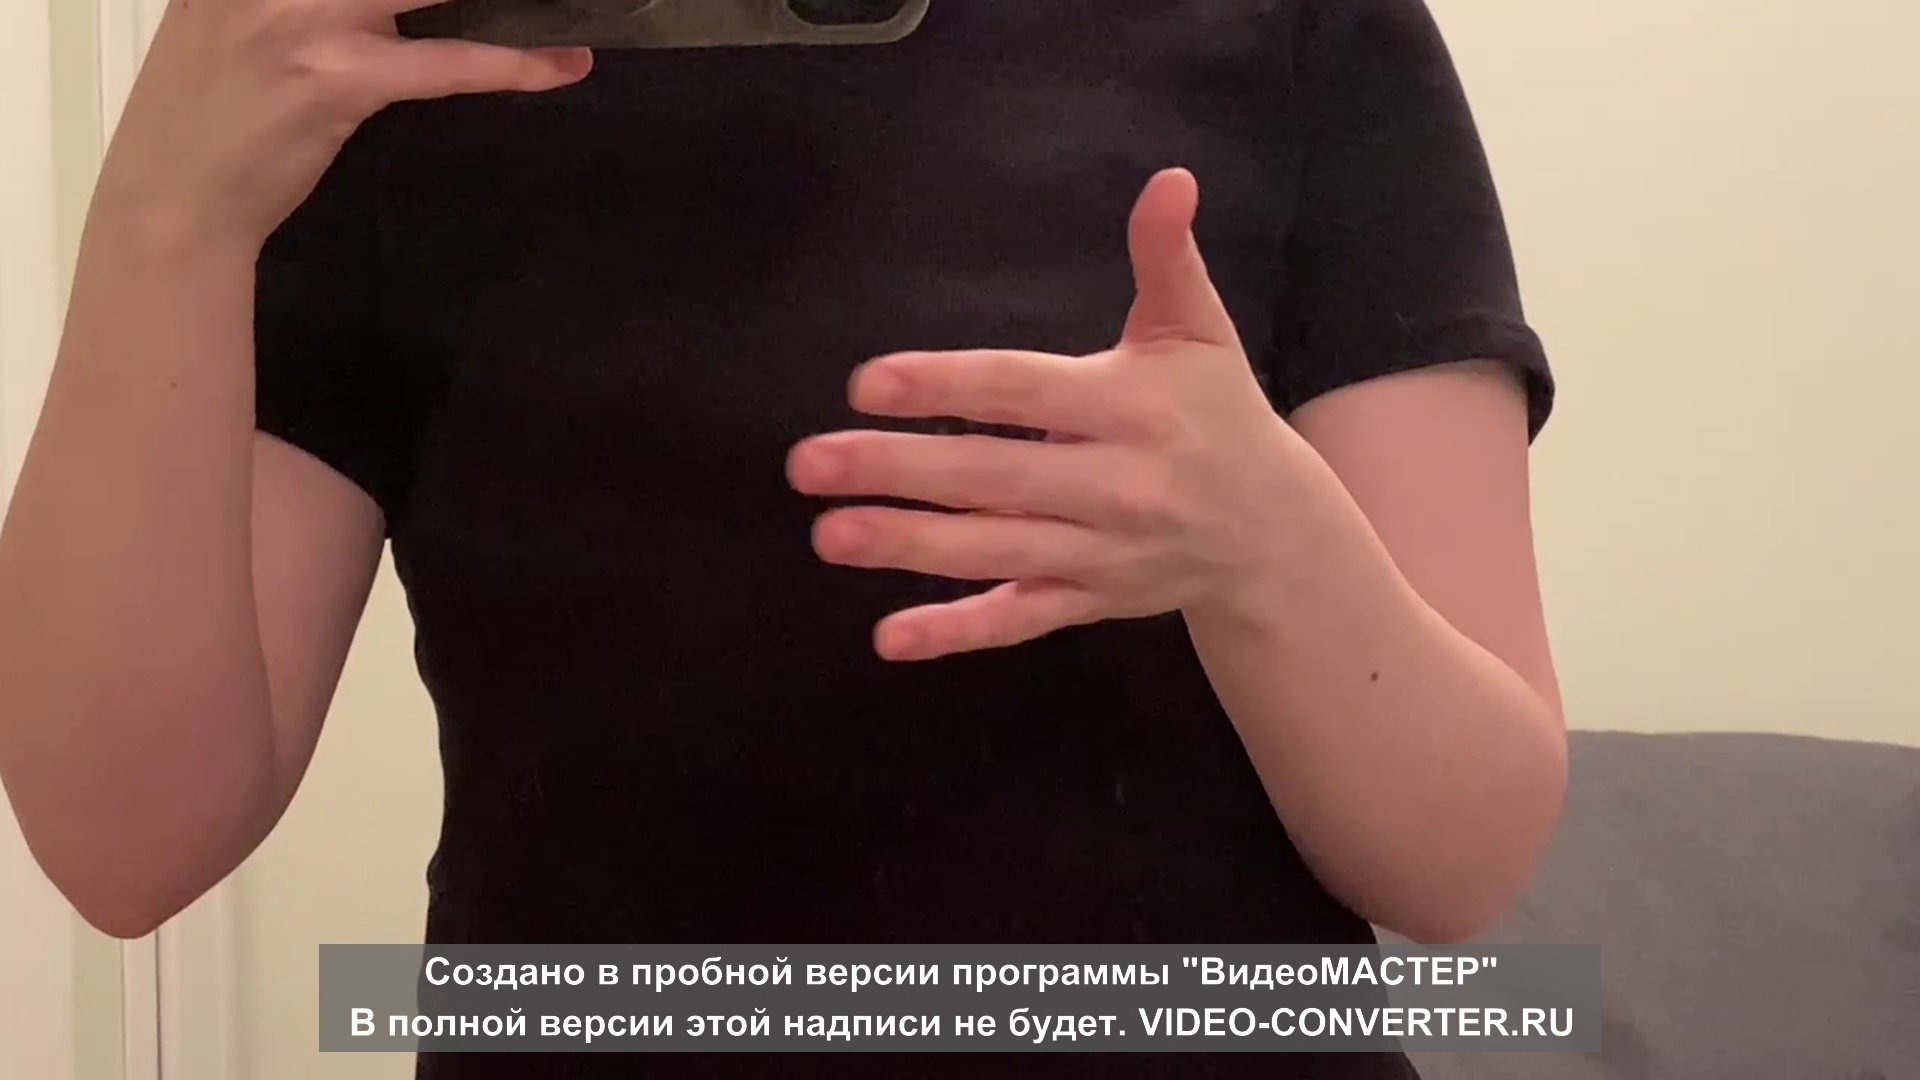Кисть: (789, 164, 1258, 662)
